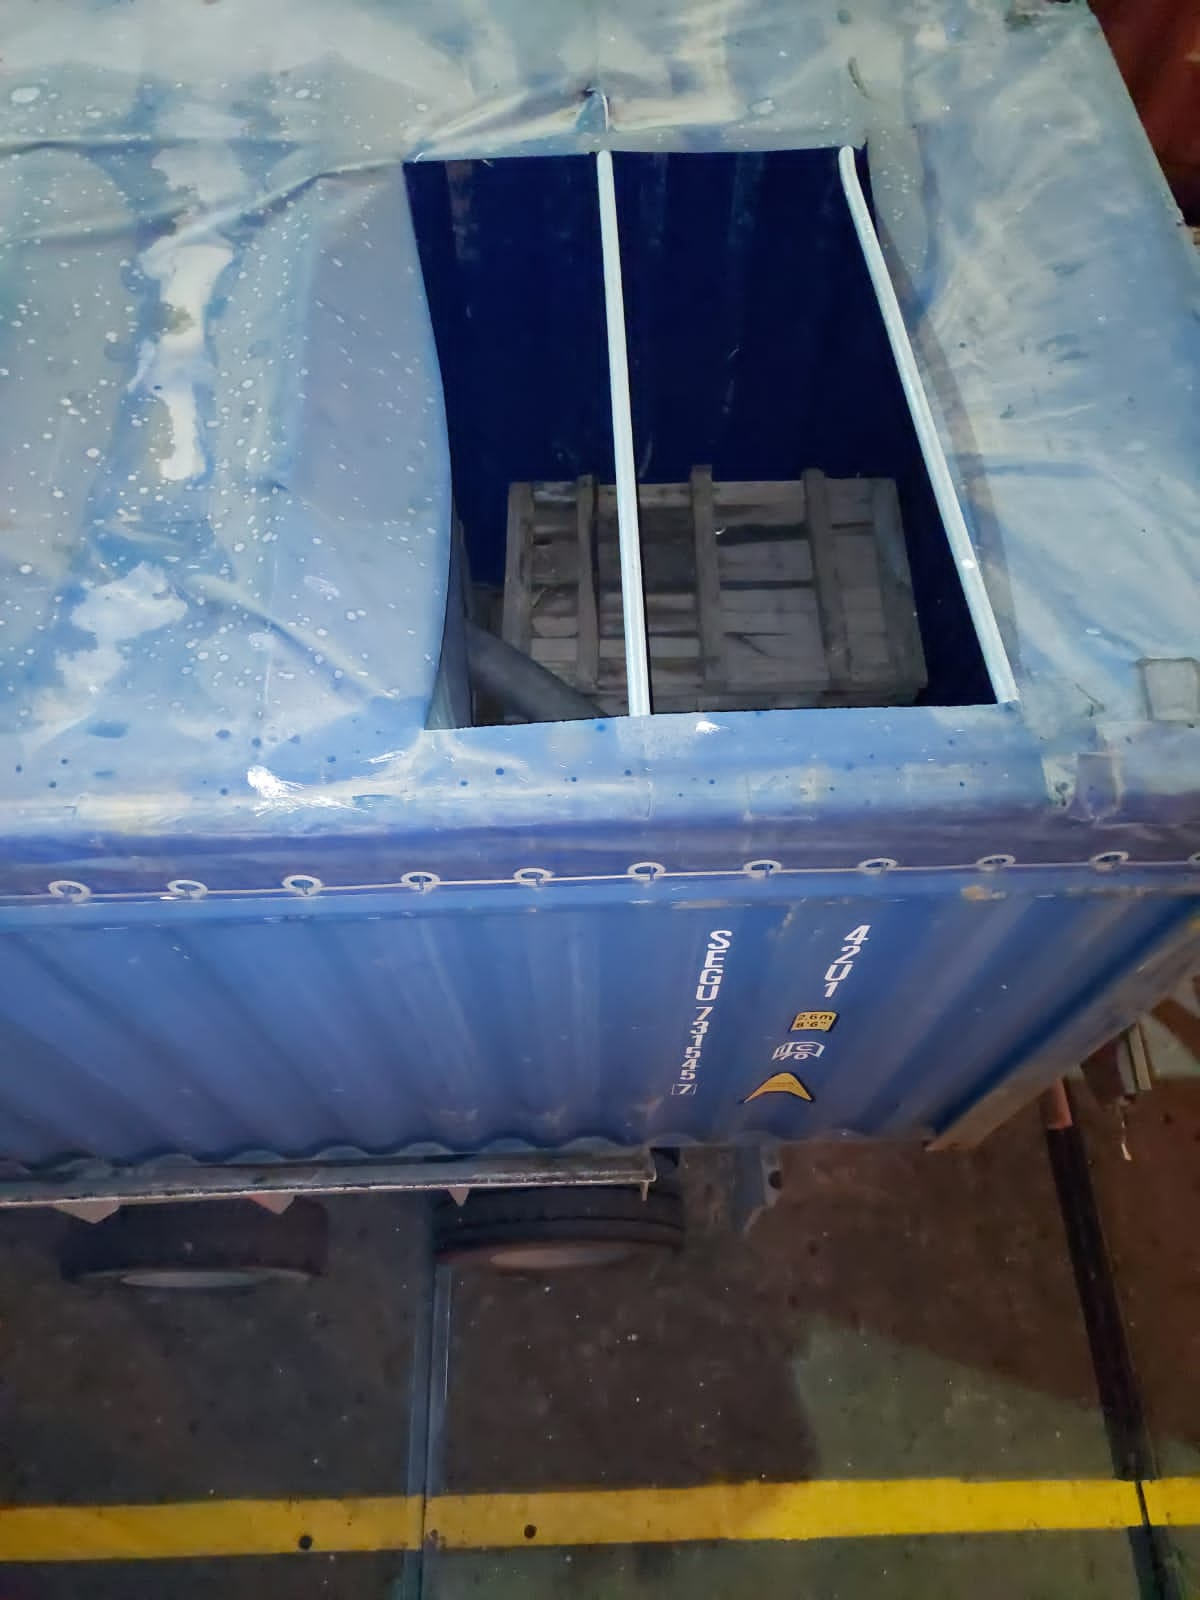cut: (368, 72, 1029, 757)
